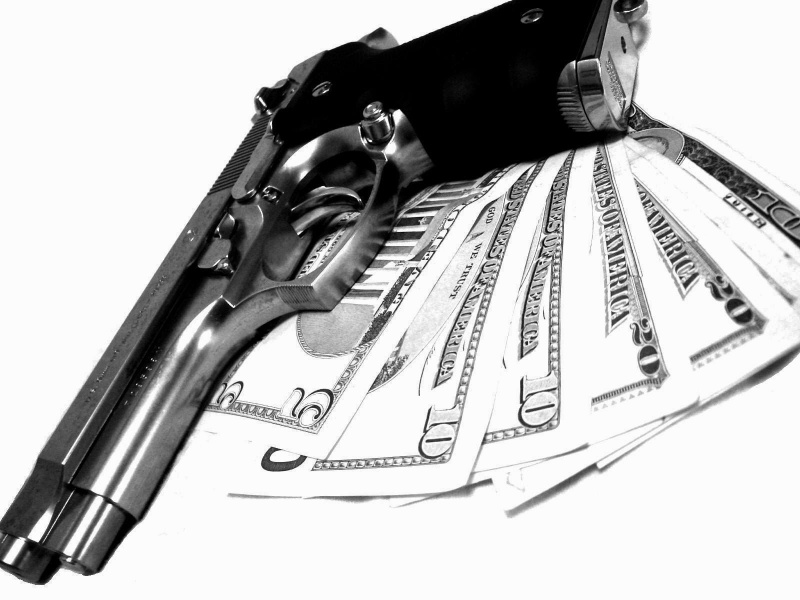cash: (206, 97, 800, 513)
weapon: (1, 1, 648, 585)
